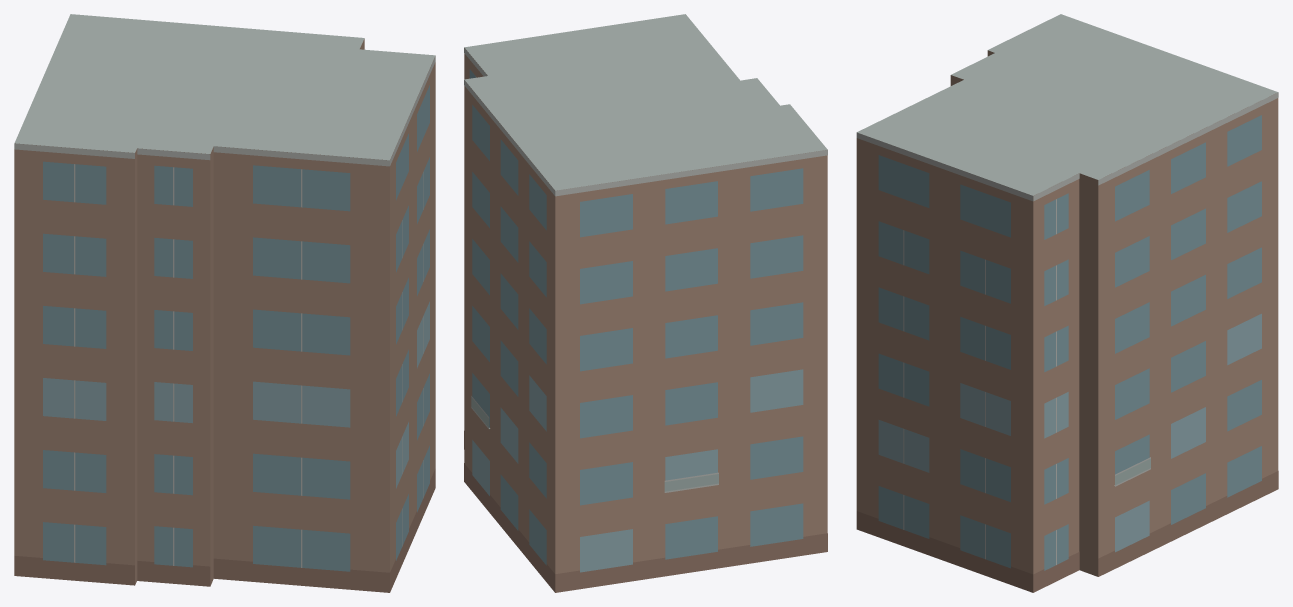
The model's file is survey-upis-32544145.glb.
3 views of the same model, side by side, from view 1: azimuth 30°, elevation 25°; view 2: azimuth 150°, elevation 25°; view 3: azimuth 270°, elevation 25° (orthographic). The views are drawn at different scales.
Parts seen in each view (by area): view 1: survey-upis-32544145.tmp; view 2: survey-upis-32544145.tmp; view 3: survey-upis-32544145.tmp.
Boxes of the visible parts, x1,y1,x2,y2 form: survey-upis-32544145.tmp: (14,14,435,592); survey-upis-32544145.tmp: (464,14,827,592); survey-upis-32544145.tmp: (856,14,1278,592).
Size of the model in its own units: 17.01 by 17.3 by 16.67.
